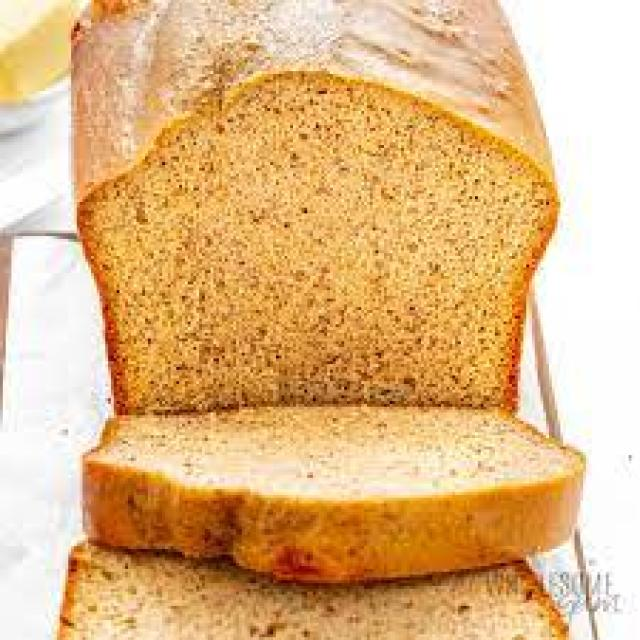Bread: (79, 72, 555, 413), (85, 406, 582, 582), (59, 541, 570, 639)
